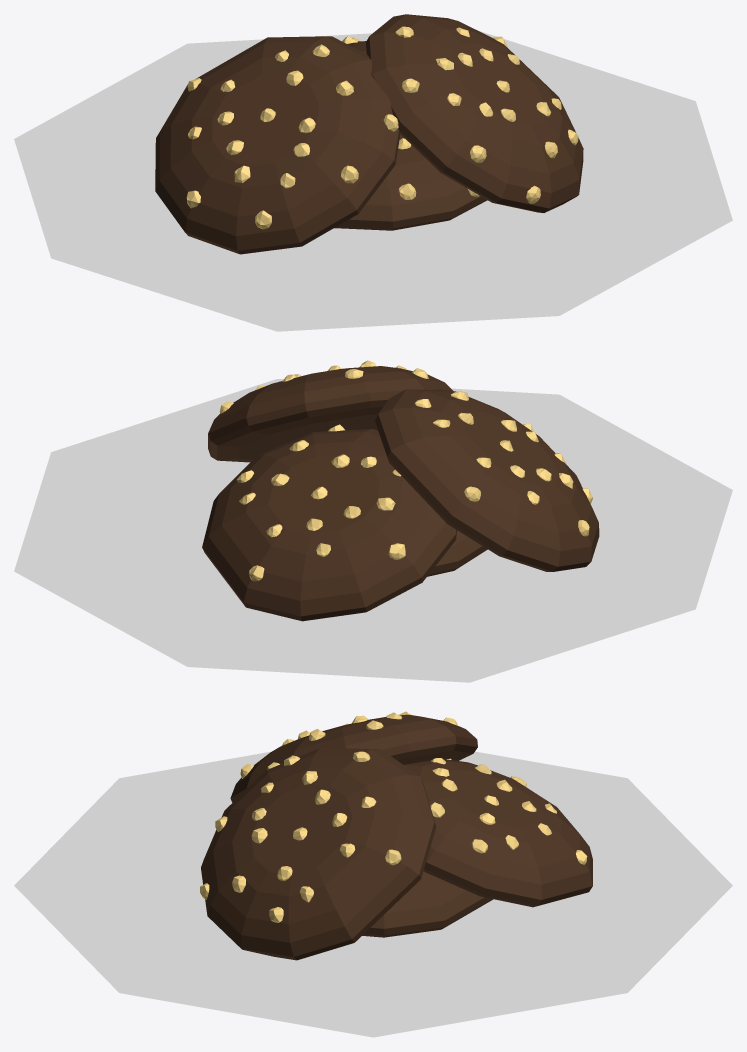
File: whiteCookieBaked.fbx
3 views of the same model, one above another, from view 1: azimuth 30°, elevation 25°; view 2: azimuth 150°, elevation 25°; view 3: azimuth 270°, elevation 25° (orthographic). The views are drawn at different scales.
Parts seen in each view (by area): view 1: Cylinder, Icosphere.003, Icosphere.002, Icosphere; view 2: Cylinder, Icosphere.001, Icosphere.003, Icosphere.002, Icosphere; view 3: Cylinder, Icosphere.002, Icosphere.001, Icosphere.003, Icosphere.
Boxes of the visible parts, x1,y1,x2,y2 form: Cylinder: [14, 30, 732, 331]; Icosphere.003: [155, 36, 400, 254]; Icosphere.002: [366, 14, 583, 212]; Icosphere: [334, 134, 487, 230]; Cylinder: [14, 379, 732, 682]; Icosphere.001: [202, 424, 456, 621]; Icosphere.003: [375, 389, 599, 571]; Icosphere.002: [208, 360, 452, 462]; Icosphere: [427, 530, 487, 576]; Cylinder: [14, 751, 732, 1037]; Icosphere.002: [200, 747, 436, 960]; Icosphere.001: [404, 758, 592, 907]; Icosphere.003: [230, 711, 477, 802]; Icosphere: [362, 871, 493, 937].
Bounding box in the file's own units: 165 × 44.43 × 165.
